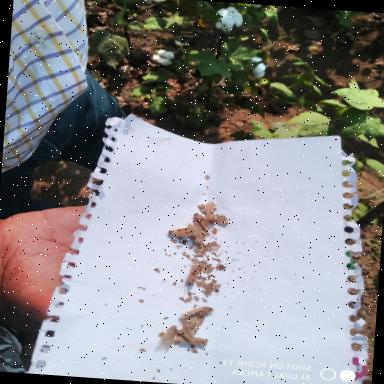abw: (176, 302, 216, 323), (155, 322, 177, 352), (172, 334, 210, 348), (189, 211, 211, 230), (187, 259, 203, 285), (165, 227, 199, 239), (203, 198, 218, 224)
